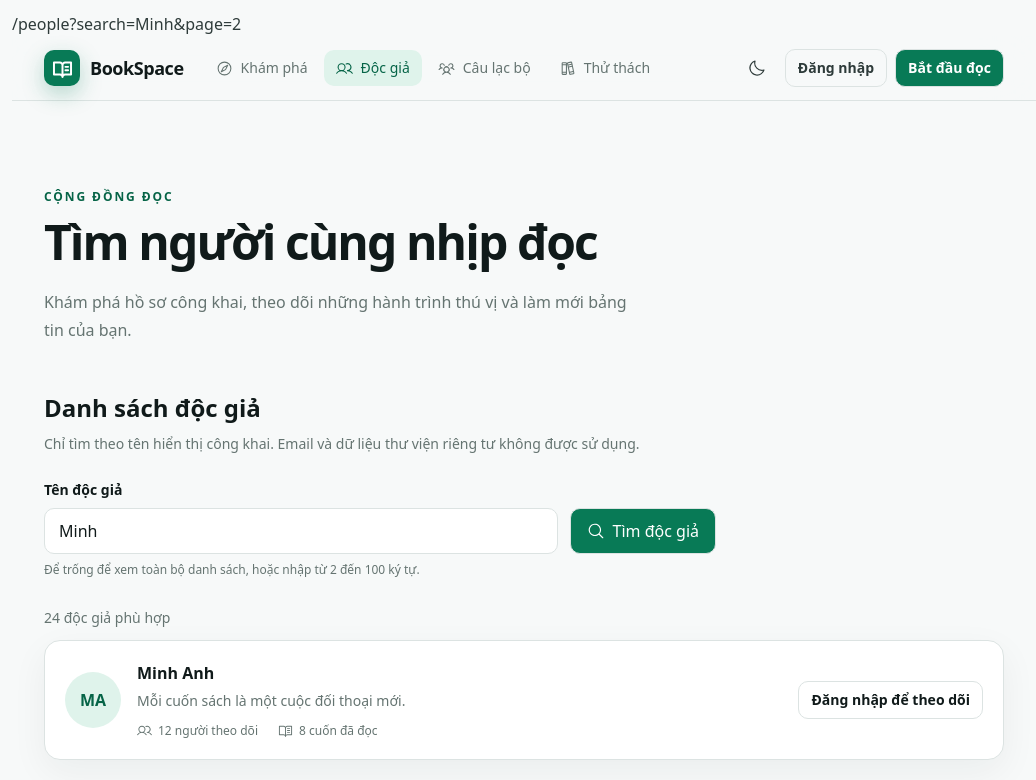
production people route › renders guest search from URL and keeps a login-return CTA on every result
The width and height of the screenshot is (1036, 780).
Expected: the heading "Tìm người cùng nhịp đọc" is shown, [44,209,597,274]
Expected: the field labelled "Tên độc giả" holds "Minh", [44,508,558,554]
Click the link with aria-label "Đăng nhập để theo dõi Minh Anh": click(891, 700) [798,681,983,719]
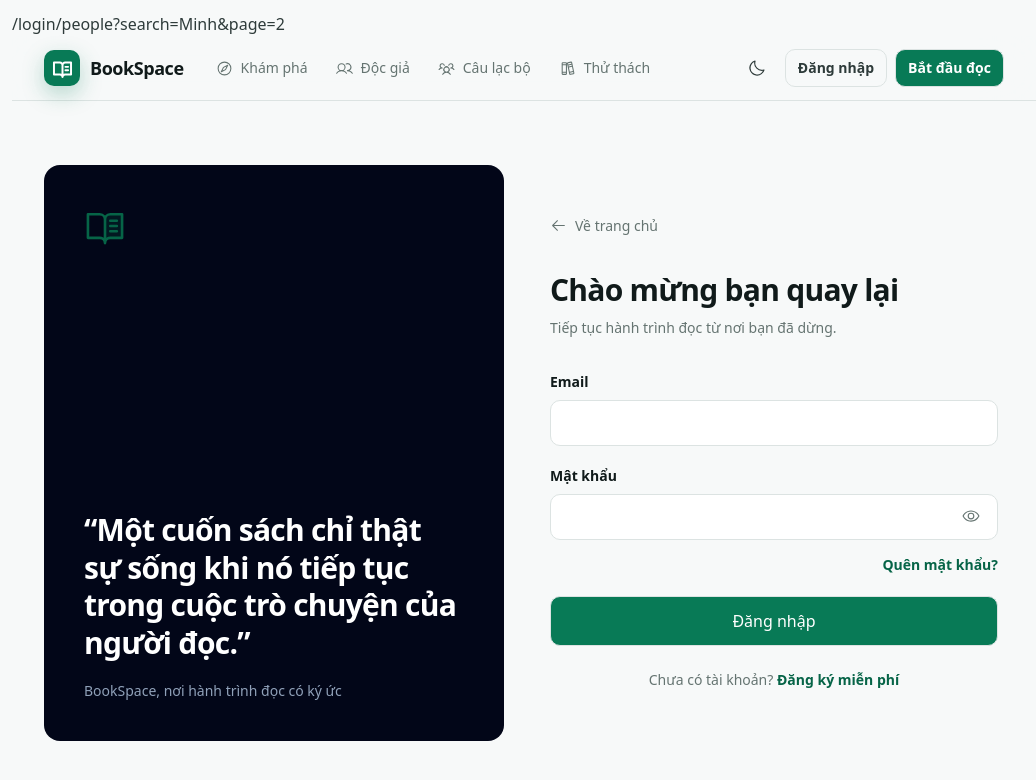
Expected: the text with test id "location-from" reads "/people?search=Minh&page=2", [56,13,285,35]
Result: the text with test id "current-location" reads "/login" at [12,13,56,35]
